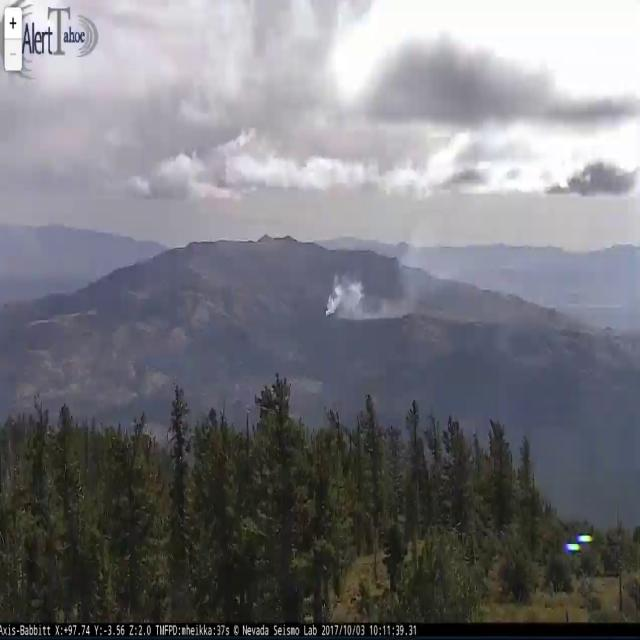smoke: (324, 221, 464, 318)
